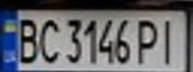1: (81, 16, 100, 64)
3: (60, 15, 84, 64)
4: (97, 15, 118, 64)
6: (112, 16, 136, 65)
B: (9, 14, 42, 65)
C: (36, 15, 63, 65)
I: (154, 16, 184, 65)
P: (133, 16, 163, 65)
